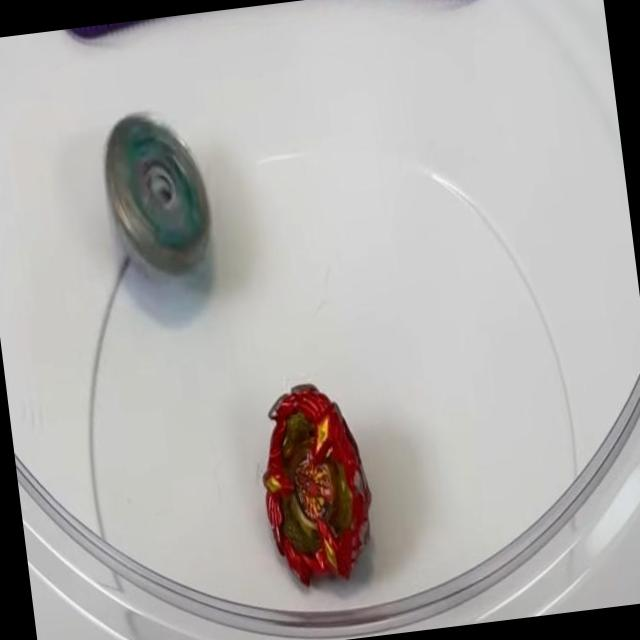Beyblade: (250, 377, 380, 589), (97, 107, 216, 286)
